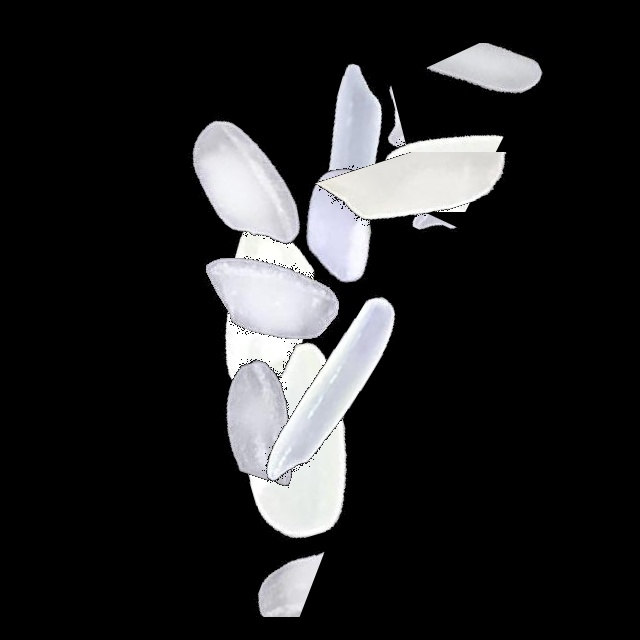Broken: (142, 284, 311, 534), (297, 152, 547, 289), (369, 43, 619, 178), (299, 79, 549, 212), (138, 511, 388, 617), (79, 508, 329, 598), (394, 136, 474, 386), (231, 73, 481, 153)
Full: (135, 175, 385, 425), (224, 42, 474, 292), (169, 316, 419, 566), (148, 172, 398, 422), (205, 267, 455, 517), (120, 61, 370, 311), (214, 100, 464, 350)
